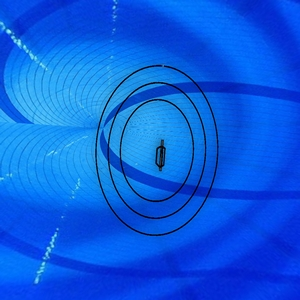circle: (91, 58, 226, 240)
submarine: (153, 138, 171, 174)
